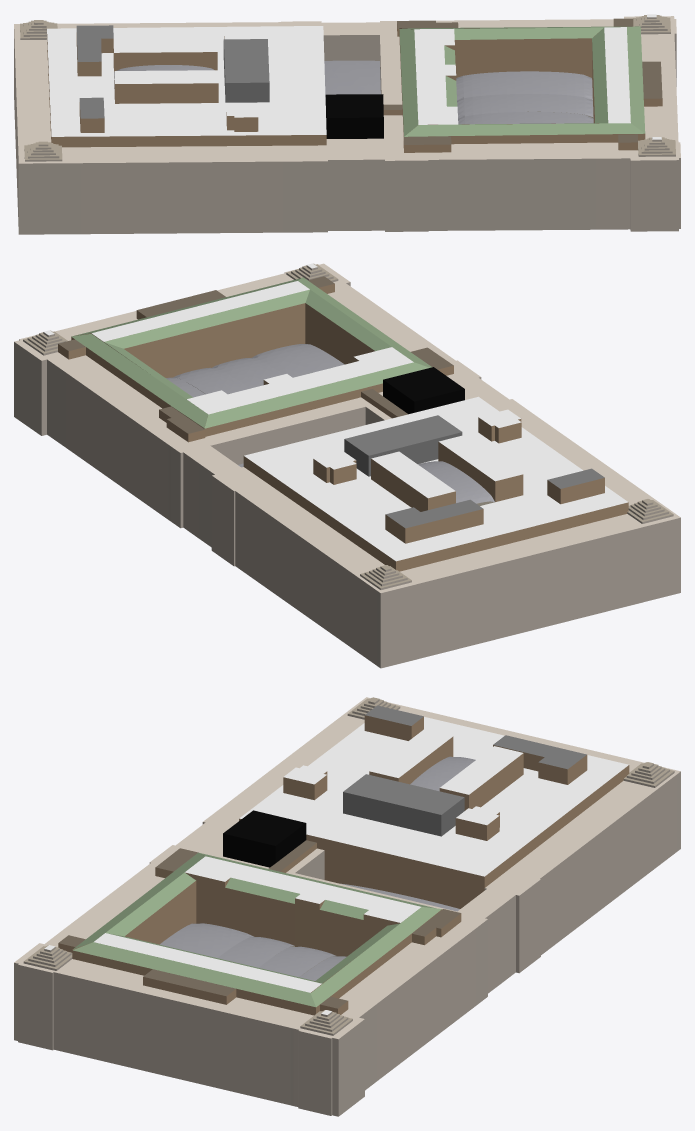
Rendered from moynihan.glb.
3 views of the same model, one above another, from view 1: azimuth 30°, elevation 25°; view 2: azimuth 150°, elevation 25°; view 3: azimuth 270°, elevation 25° (orthographic). The views are drawn at different scales.
Parts seen in each view (by area): view 1: Moynihan Train Hall (James A. Farley Building); view 2: Moynihan Train Hall (James A. Farley Building); view 3: Moynihan Train Hall (James A. Farley Building).
Part boxes in pixels (x1,y1,x2,y2): Moynihan Train Hall (James A. Farley Building): (14,14,680,234); Moynihan Train Hall (James A. Farley Building): (14,263,680,668); Moynihan Train Hall (James A. Farley Building): (14,697,680,1116).
Bounding box in the file's own units: 256 × 38.5 × 211.
